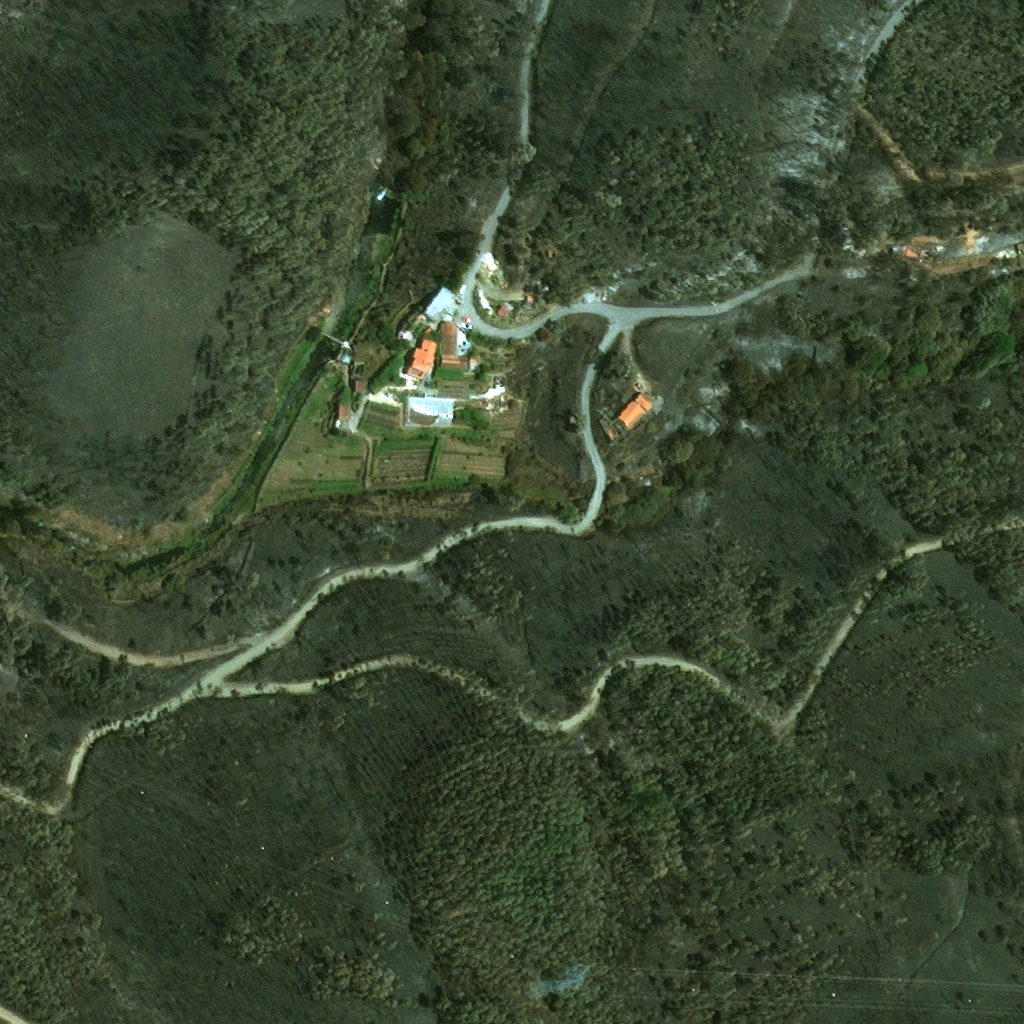0 no-damage: (436, 322, 476, 372), (611, 390, 654, 434), (402, 336, 438, 383), (405, 398, 457, 430), (422, 286, 463, 321), (844, 230, 871, 248), (334, 350, 348, 364), (338, 404, 351, 419), (351, 380, 363, 394), (548, 247, 561, 257), (522, 299, 534, 308)
2 major-damage: (597, 416, 625, 446)
